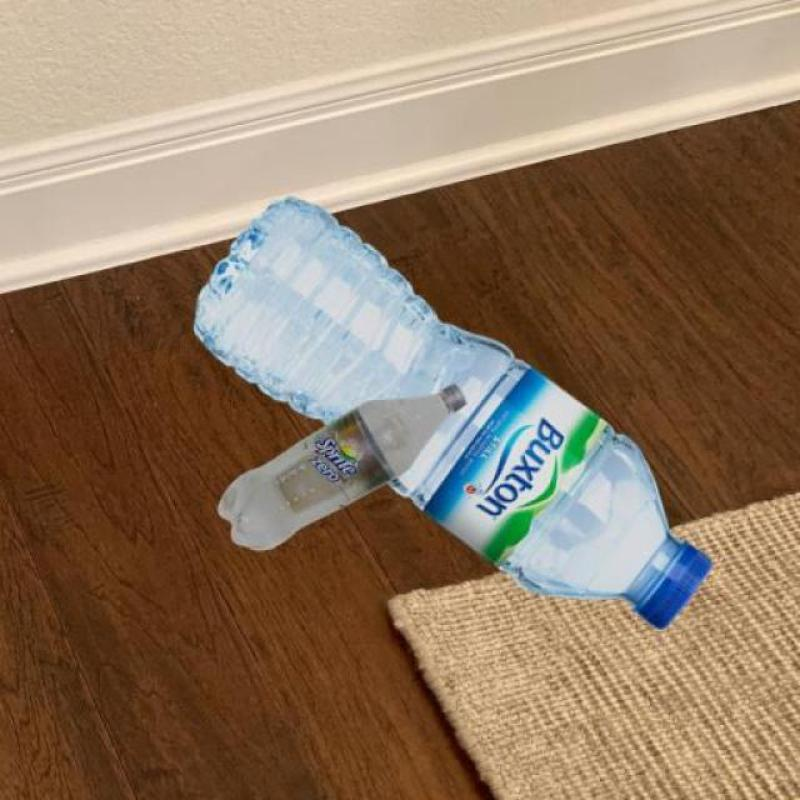botella: (193, 197, 717, 628), (218, 382, 467, 552)
